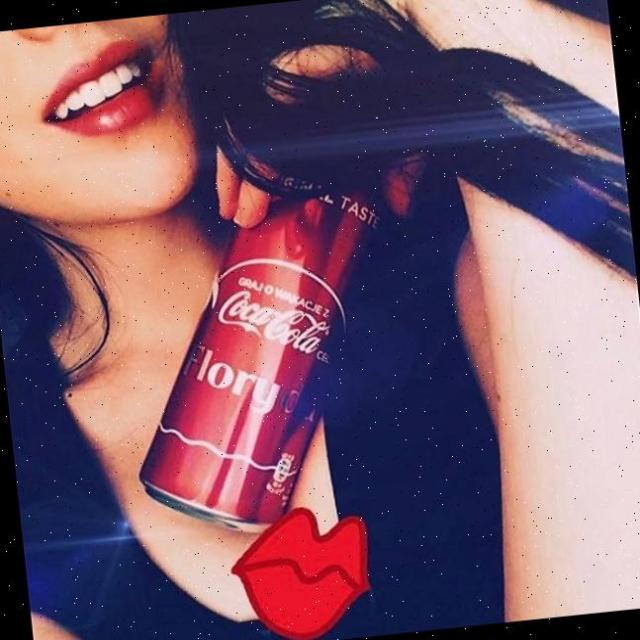coca-cola: (103, 136, 417, 550)
